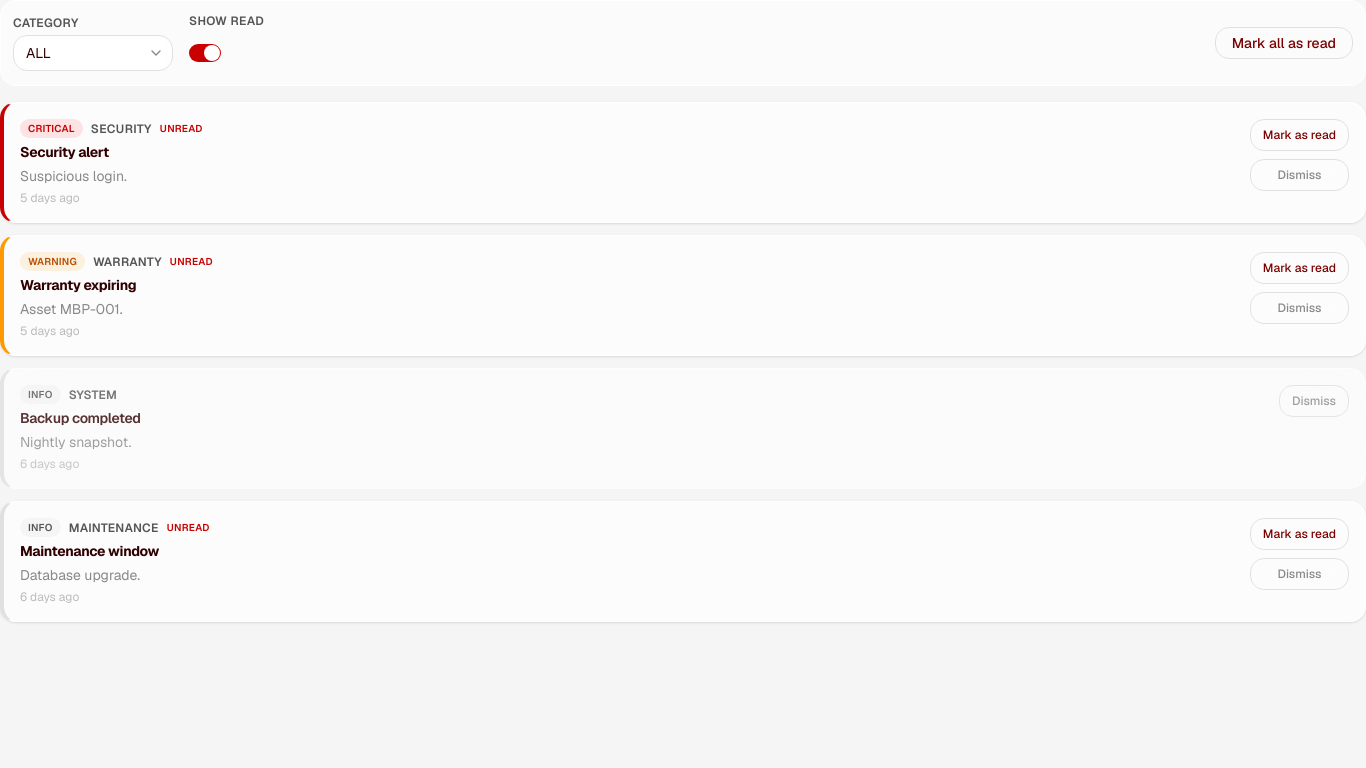
Scenario: NotificationList › hides read notifications when the show-read switch is toggled off
Check: the heading "Backup completed" is shown, box [20,409,141,427]
Click the switch named "Show read notifications": [205, 53] box [189,44,221,62]
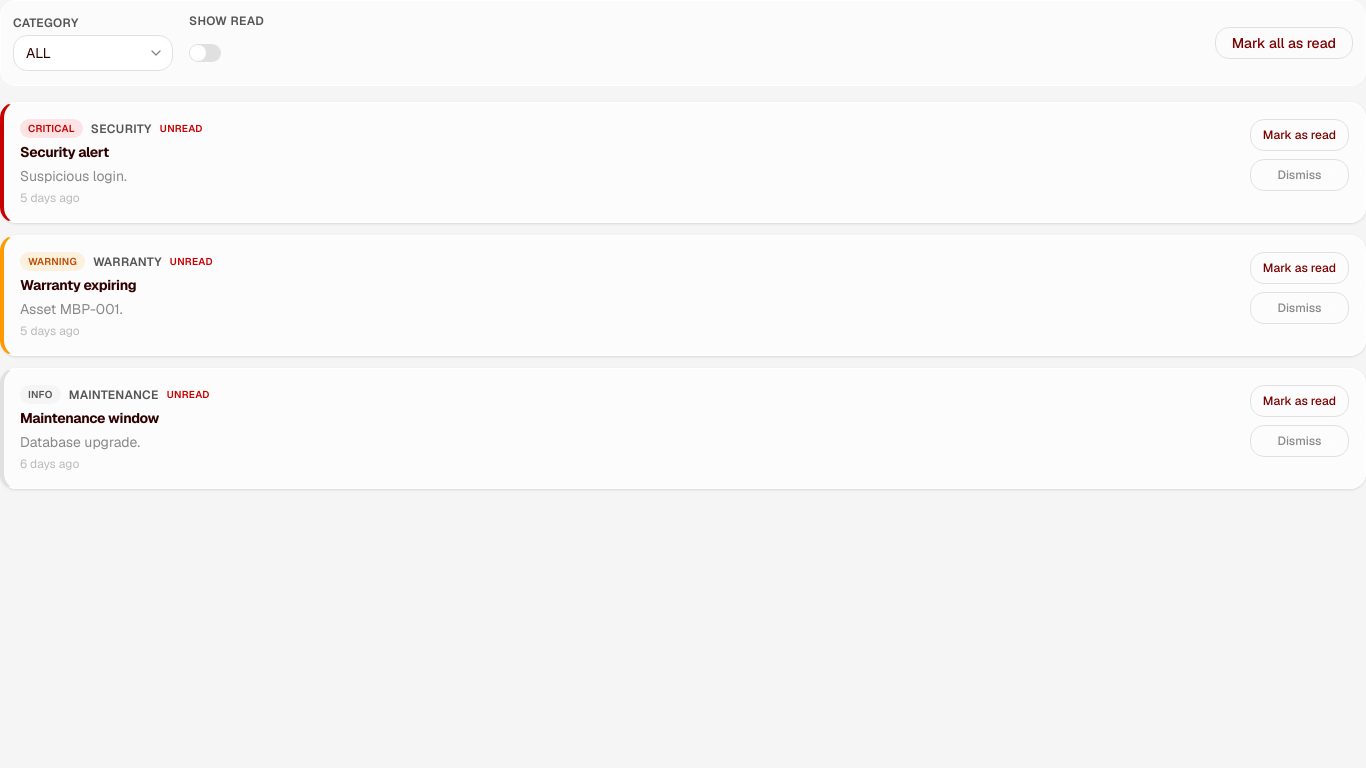
Check: the heading "Security alert" is shown, box [20,143,109,161]
Check: the heading "Backup completed" is gone
